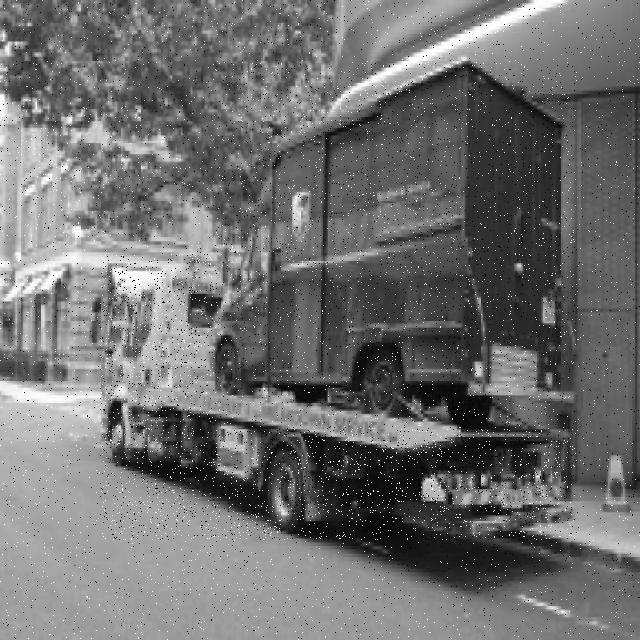Box Truck: (213, 62, 576, 430)
Tow Truck: (100, 254, 575, 540)
